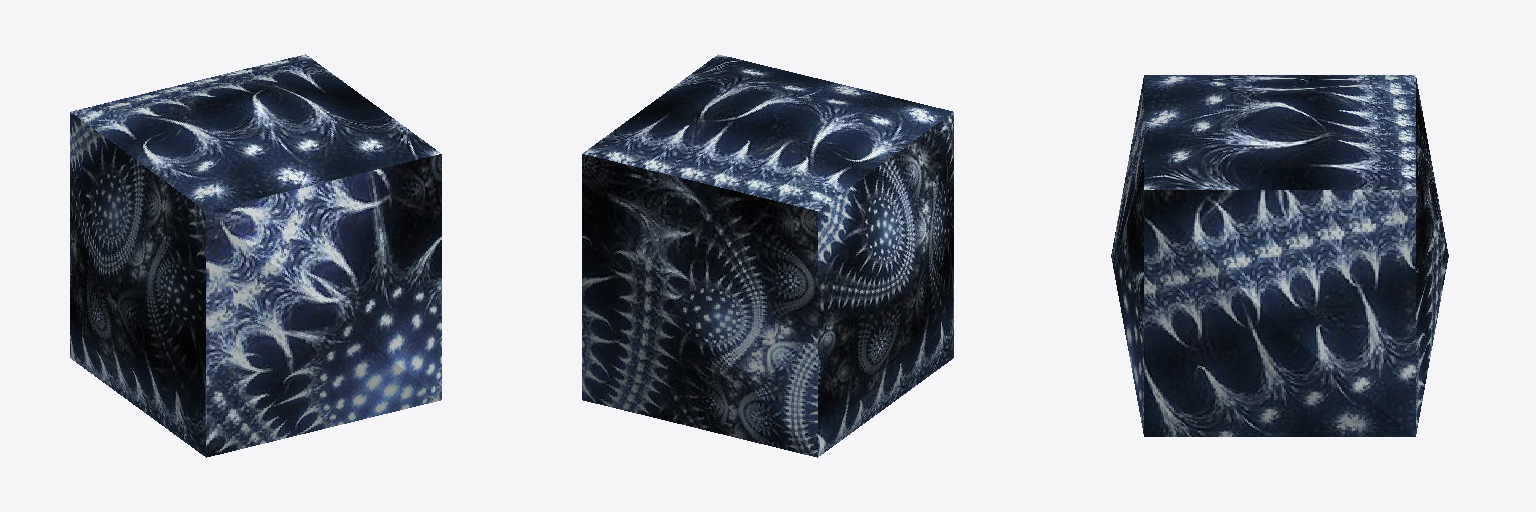
The picture shows the model from 3 angles: view 1: azimuth 30°, elevation 25°; view 2: azimuth 150°, elevation 25°; view 3: azimuth 270°, elevation 25°; orthographic projection.
Visible parts, largest first — view 1: polySurface1; view 2: polySurface1; view 3: polySurface1.
Boxes of the visible parts, x1=… form: polySurface1: x1=70, y1=54, x2=441, y2=457; polySurface1: x1=582, y1=54, x2=953, y2=457; polySurface1: x1=1111, y1=75, x2=1448, y2=436.
Bounding box in the file's own units: 1.24 × 1.24 × 1.24.
1 materials, 1 textured.